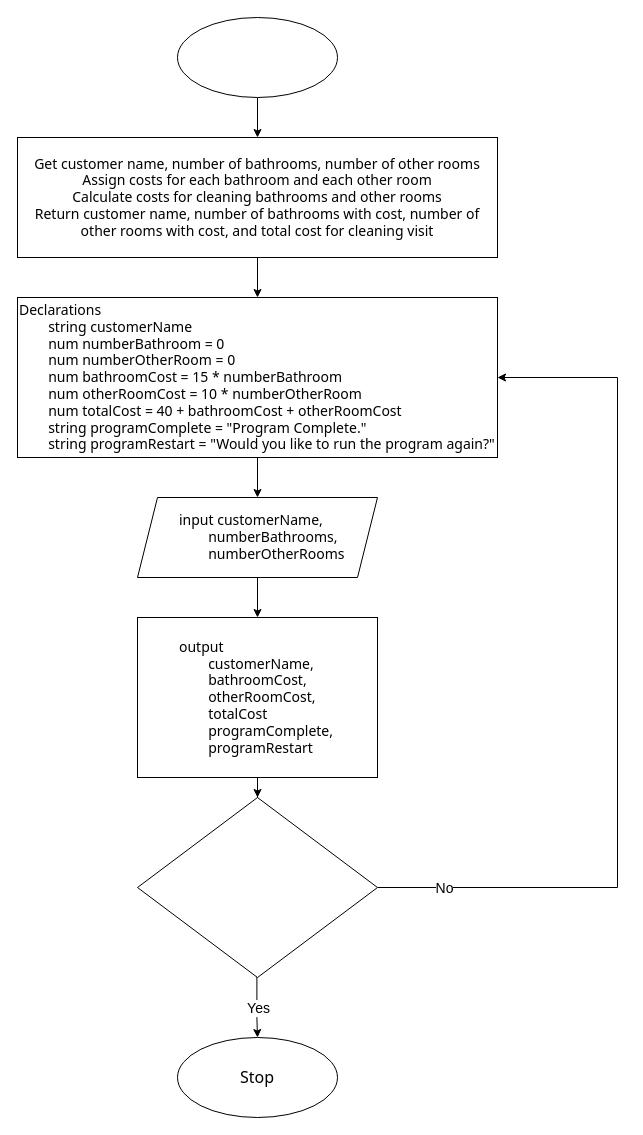
The diagram is 643 pixels wide and 1135 high, and some of its shapes have lost their labels. The centre of each missing label's shape, as x and y in pixels:
"Don't restart program?" belongs at pixel 257 887.
"Start" belongs at pixel 257 57.
